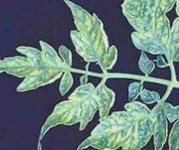Tomato leaf mosaic virus: (37, 69, 119, 150), (77, 81, 173, 150), (49, 0, 129, 71), (0, 32, 80, 99), (107, 5, 179, 71)
